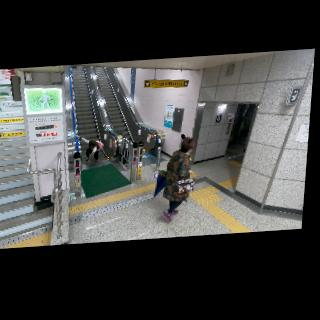anomaly: (71, 132, 102, 163)
normal: (159, 136, 198, 225)
